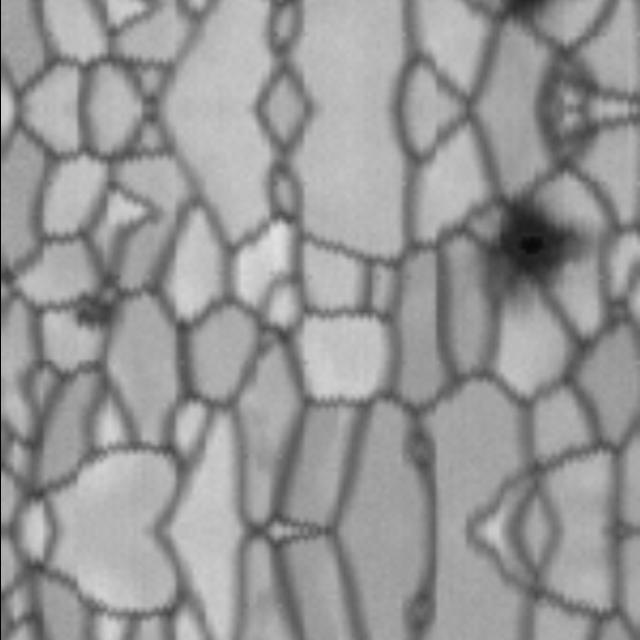good_void: (484, 186, 576, 293), (395, 418, 451, 480), (67, 277, 125, 332), (395, 584, 451, 640), (542, 58, 593, 110), (542, 110, 593, 161)
